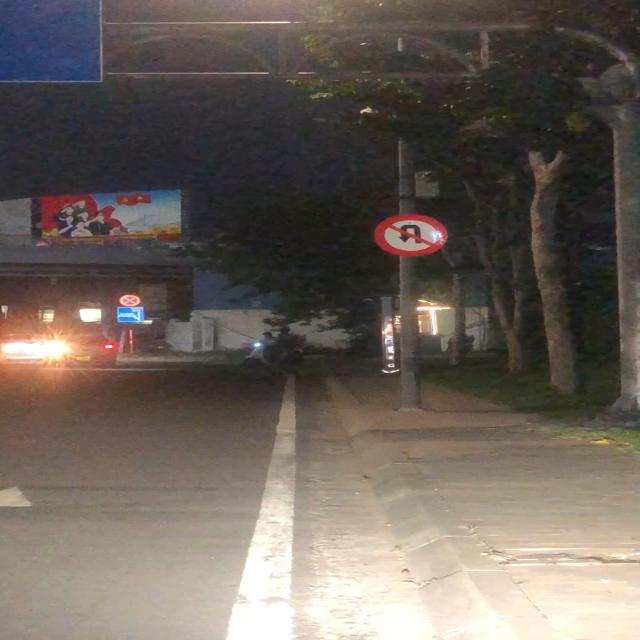Bien bao cam dung xe va do xe: (118, 292, 142, 308)
Bien bao cam quay dau xe: (370, 210, 452, 258)
